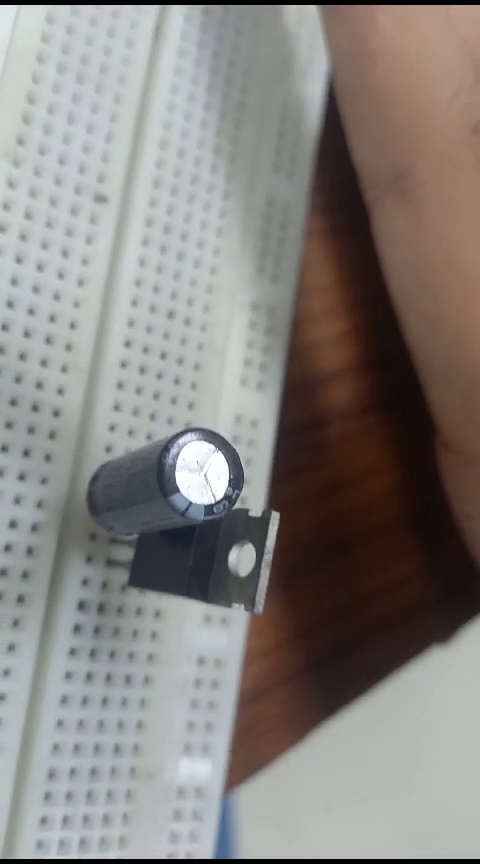capacitor: (78, 425, 247, 545)
voltage regulator: (143, 497, 286, 629)
